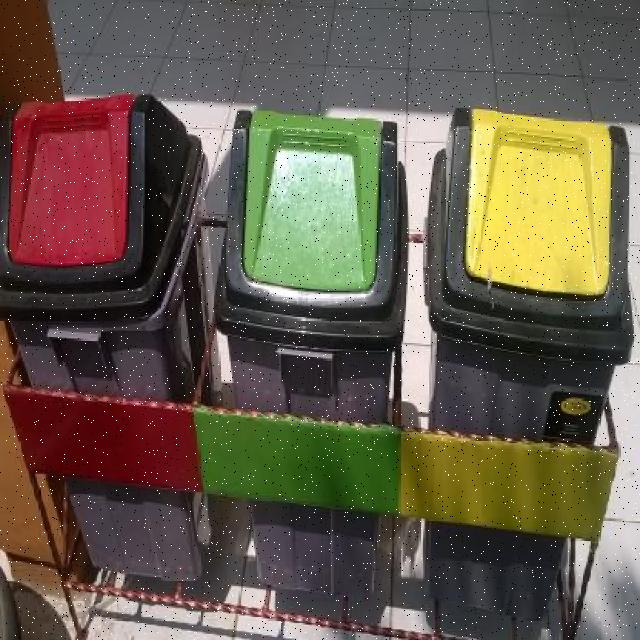garbage container: (420, 97, 638, 632), (0, 75, 214, 596), (214, 103, 414, 599)
